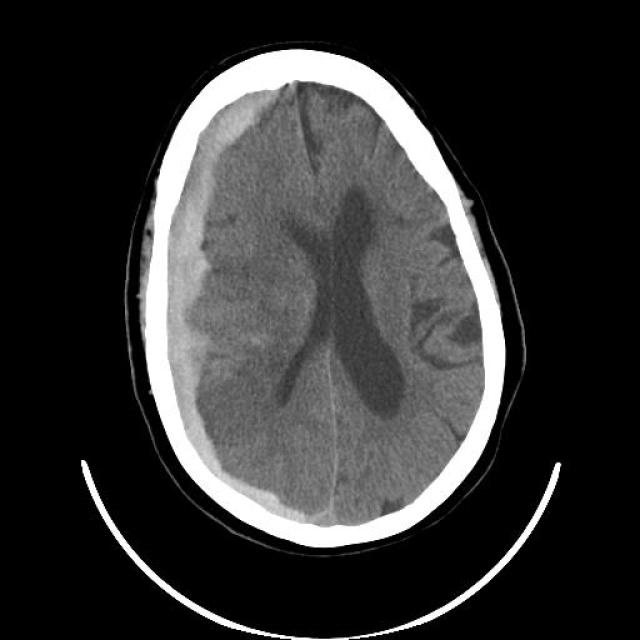Subdural: (104, 85, 308, 541)
